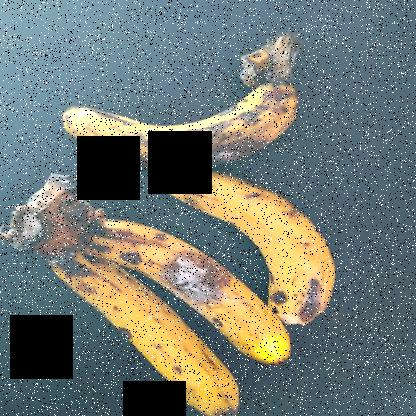overripe: (109, 215, 310, 375), (57, 255, 249, 415), (176, 167, 336, 324)
rotten: (48, 64, 328, 188)
